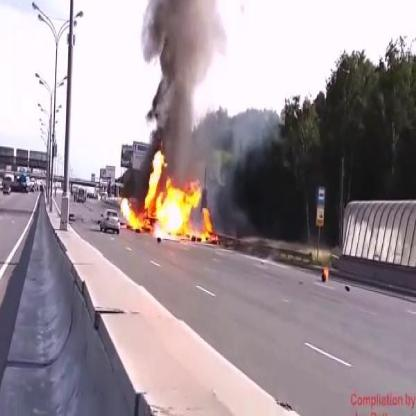fire: (118, 148, 218, 246), (323, 266, 331, 281)
